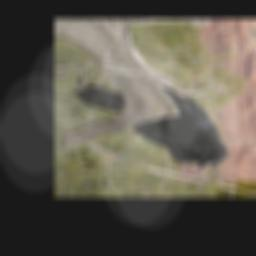Crow: (68, 83, 230, 172)
